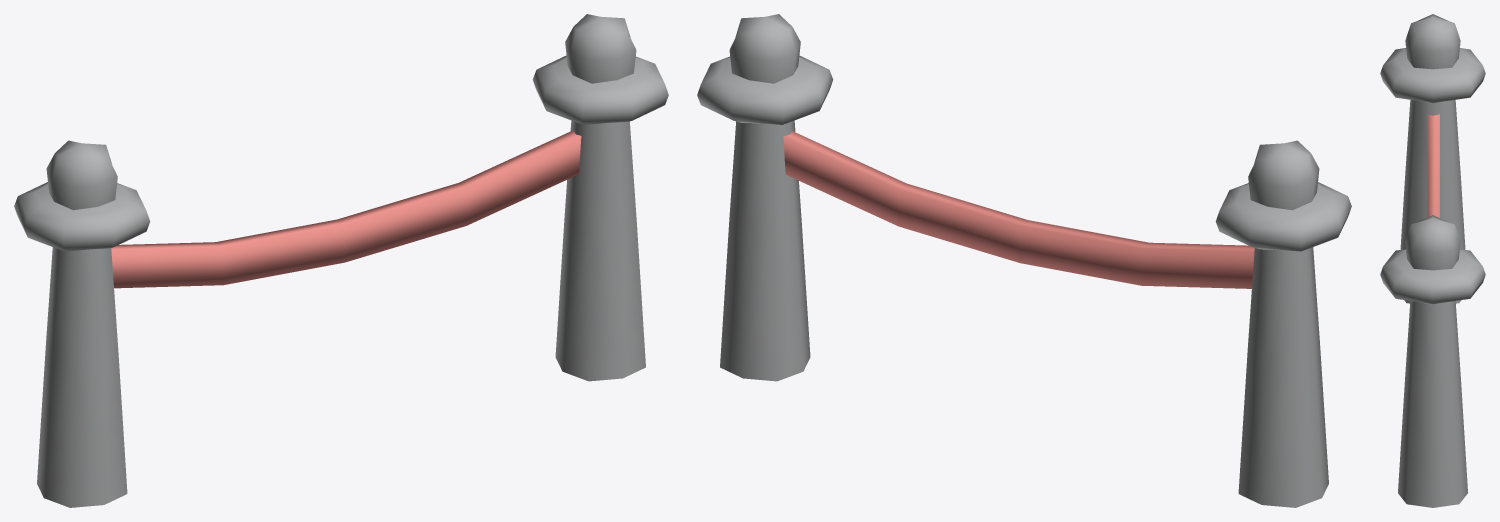
File: Door_S.fbx
The picture shows the model from 3 angles, left to right: view 1: azimuth 30°, elevation 25°; view 2: azimuth 150°, elevation 25°; view 3: azimuth 270°, elevation 25°; orthographic projection. The views are drawn at different scales.
Parts seen in each view (by area): view 1: Door_S; view 2: Door_S; view 3: Door_S.
Part boxes in pixels (<box>): Door_S: <box>14,14,668,507</box>; Door_S: <box>697,14,1351,507</box>; Door_S: <box>1380,14,1485,507</box>.
Bounding box in the file's own units: 133 × 69.46 × 24.22.
